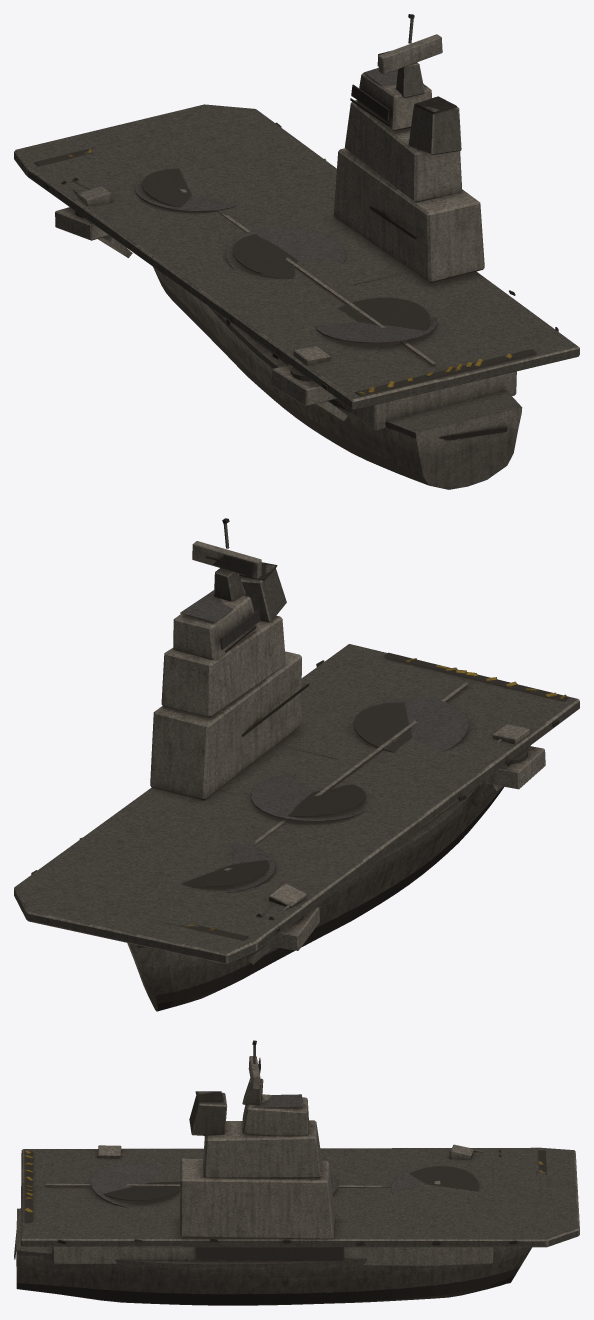
File: ord_sanctuary_wreck.fbx
The picture shows the model from 3 angles, top to bottom: view 1: azimuth 30°, elevation 25°; view 2: azimuth 150°, elevation 25°; view 3: azimuth 270°, elevation 25°; orthographic projection. The views are drawn at different scales.
Parts seen in each view (by area): view 1: base_bar, radar_bar, turret2_bar, turret1_bar; view 2: base_bar, radar_bar, turret1_bar, turret2_bar; view 3: base_bar, turret1_bar.
Boxes of the visible parts, x1=… form: base_bar: x1=14, y1=14, x2=579, y2=489; radar_bar: x1=377, y1=34, x2=442, y2=74; turret2_bar: x1=290, y1=346, x2=330, y2=381; turret1_bar: x1=61, y1=177, x2=112, y2=217; base_bar: x1=14, y1=518, x2=579, y2=1011; radar_bar: x1=192, y1=541, x2=261, y2=578; turret1_bar: x1=256, y1=883, x2=306, y2=923; turret2_bar: x1=492, y1=724, x2=530, y2=763; base_bar: x1=14, y1=1040, x2=579, y2=1305; turret1_bar: x1=449, y1=1144, x2=500, y2=1159.
Size of the model in its own units: 1222 by 1736 by 3031.
2 materials, 2 textured.
